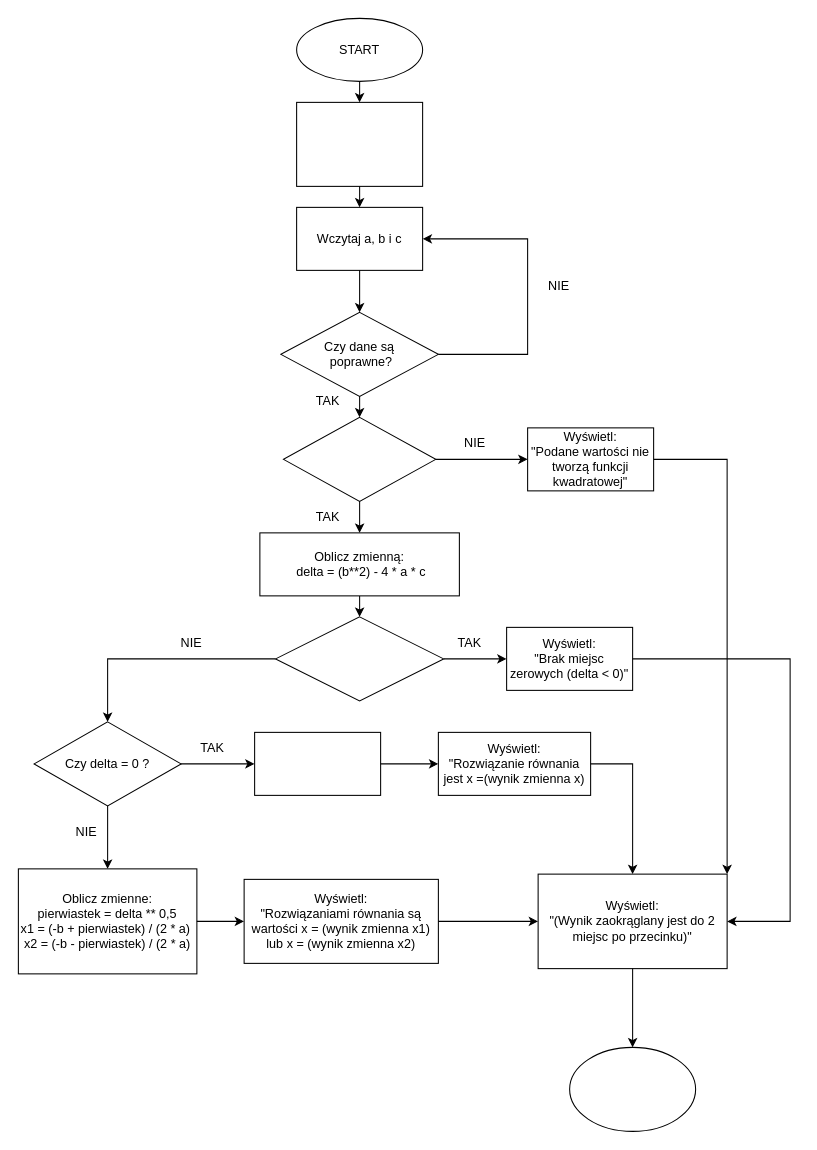
Image size: 817x1150. Some labels were removed from this diagram. Each missing label, with the centre of its shape:
czy a ≠ 0 ?: the point at 359,458
Czy delta < 0 ?: the point at 359,658
Oblicz x = -b / (2 * a): the point at 317,763
STOP: the point at 632,1088
Wyświetl: "Program rozwiązujący równanie kwadratowe ax^2 + bx + c = 0": the point at 359,143
